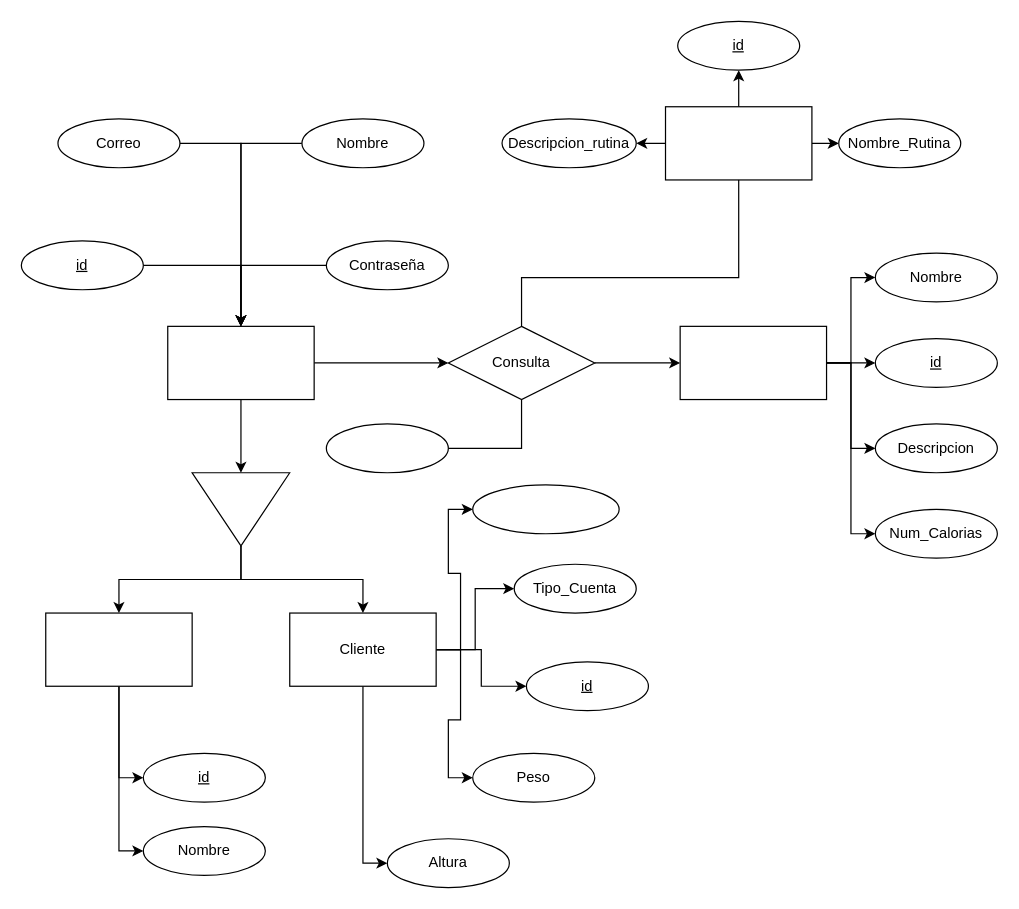
Some shapes in this 1019 by 909 pixel diagram are drawn without their labels. The centre of each missing label's shape, as x and y in pixels:
"Entrenamiento" belongs at (x=738, y=143).
"Fecha_Nacimiento" belongs at (x=545, y=509).
"IMC" belongs at (x=386, y=448).
"Moderador" belongs at (x=118, y=649).
"Receta" belongs at (x=753, y=362).
"Usuario" belongs at (x=240, y=362).
